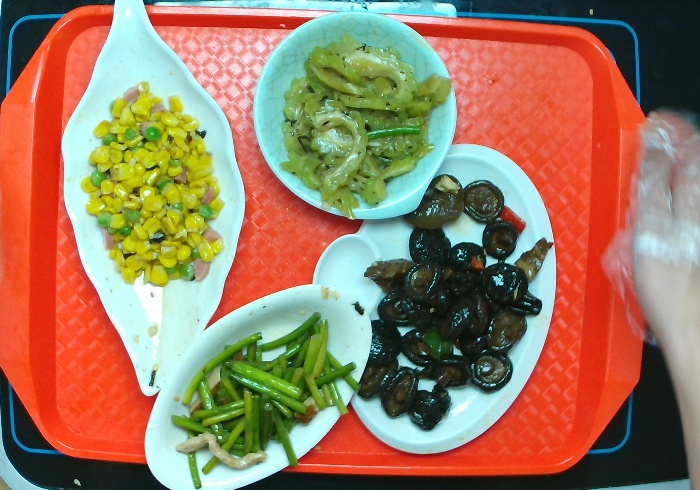RJxy-Bai_Se_Tuo_Yuan: (136, 286, 374, 490)
RJxy-Shu_Ye_Pan: (62, 1, 243, 400)
RJxy-Xiao_Jiao_Yuan_Wan: (254, 12, 461, 224)
RJxy-Zhan_Liao_Pan: (307, 141, 557, 459)
